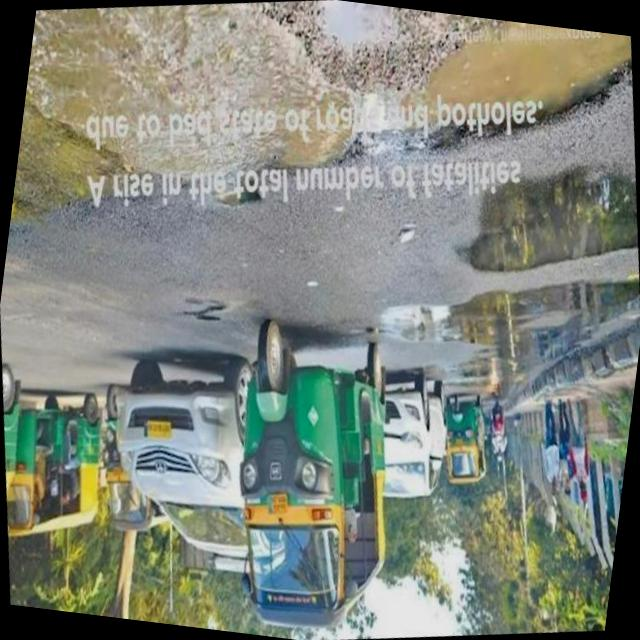Pathole: (28, 18, 631, 179)
